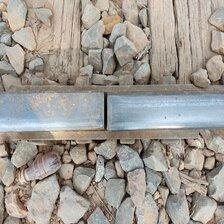railway-gap: (80, 84, 132, 137)
